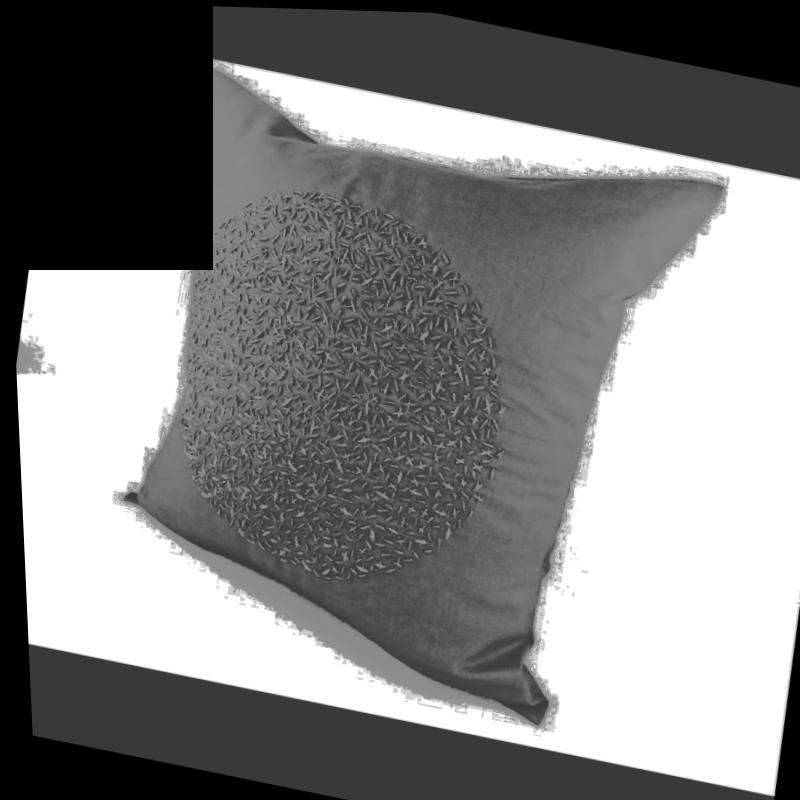pillow: (79, 58, 744, 751)
